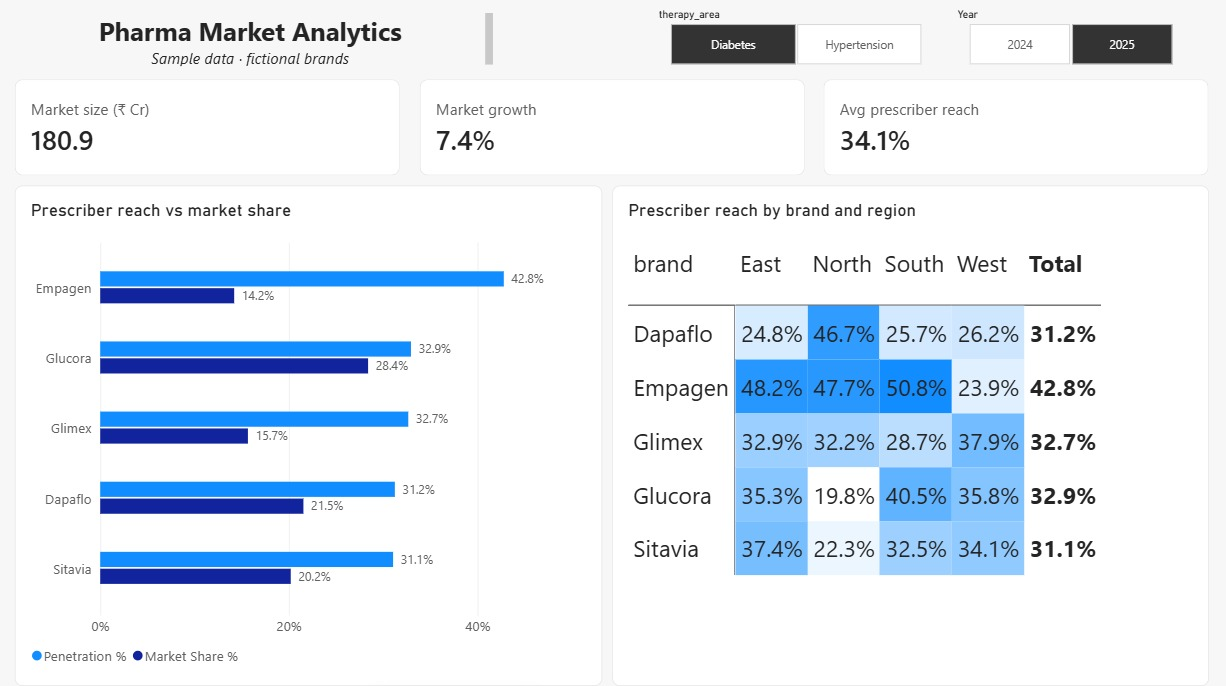

The page's visual inventory and layout, read from the dashboard file:
{"tool":"powerbi","page":{"name":"Penetration & Regions","canvas":[1280,720],"ordinal":2},"visuals":[{"type":"slicer","fields":{"Values":["Date.Year"]},"box":[991.4,10,250,60],"z":0},{"type":"slicer","fields":{"Values":["dim_brand.therapy_area"]},"box":[680,10,300,60],"z":1000},{"type":"textbox","box":[20,15,496.7,55],"z":2000},{"type":"cardVisual","fields":{"Data":["KPI_Measures.Sales (Cr)"]},"box":[20,85,400,100],"z":3000},{"type":"cardVisual","fields":{"Data":["KPI_Measures.Market Growth %"]},"box":[440,85,400,100],"z":4000},{"type":"cardVisual","fields":{"Data":["KPI_Measures.Avg Brand Reach %"]},"box":[860,85,400,100],"z":5000},{"type":"clusteredBarChart","title":"Prescriber reach vs market share","fields":{"Category":["dim_brand.brand"],"Y":["KPI_Measures.Penetration %","KPI_Measures.Market Share %"]},"box":[20,195,610,520],"z":6000},{"type":"pivotTable","title":"Prescriber reach by brand and region","fields":{"Columns":["fact_sales.region"],"Rows":["dim_brand.brand"],"Values":["KPI_Measures.Penetration %"]},"box":[640,195,620,520],"z":7000}]}

Visuals, with their boxes in screenshot pixels (x1, y1, x2, y2), scaled from the page's 1280x720 canvas onto the 1226x686 screenshot:
slicer - Date.Year: Rect(950, 10, 1189, 67)
slicer - dim_brand.therapy_area: Rect(651, 10, 939, 67)
textbox: Rect(19, 14, 495, 67)
cardVisual - KPI_Measures.Sales (Cr): Rect(19, 81, 402, 176)
cardVisual - KPI_Measures.Market Growth %: Rect(421, 81, 805, 176)
cardVisual - KPI_Measures.Avg Brand Reach %: Rect(824, 81, 1207, 176)
"Prescriber reach vs market share" clusteredBarChart: Rect(19, 186, 603, 681)
"Prescriber reach by brand and region" pivotTable: Rect(613, 186, 1207, 681)
